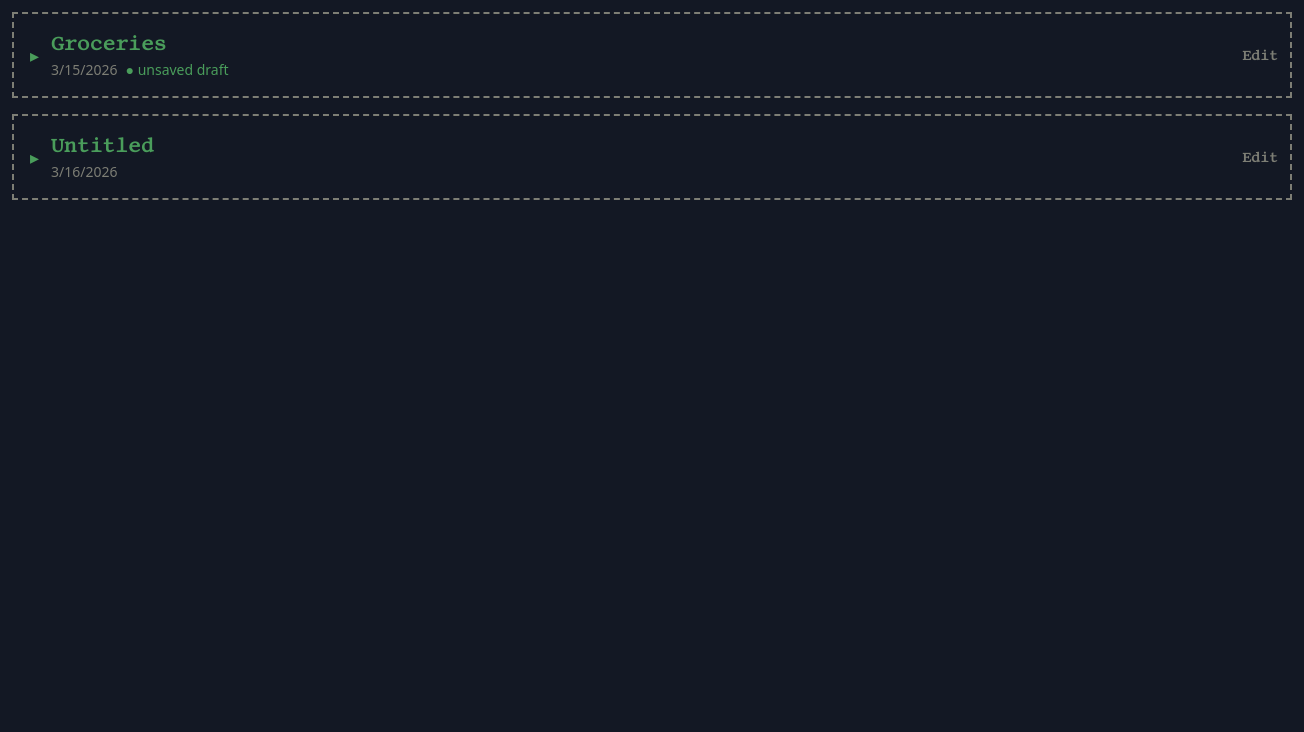
Test: NoteList › edit drafts › hides the marker while the note is actively being edited
What coordinates should you click on to do the following:
click the button with aria-label "Edit Groceries"
I would click on:
 (1260, 55)
Its box is [1230,45,1290,65].
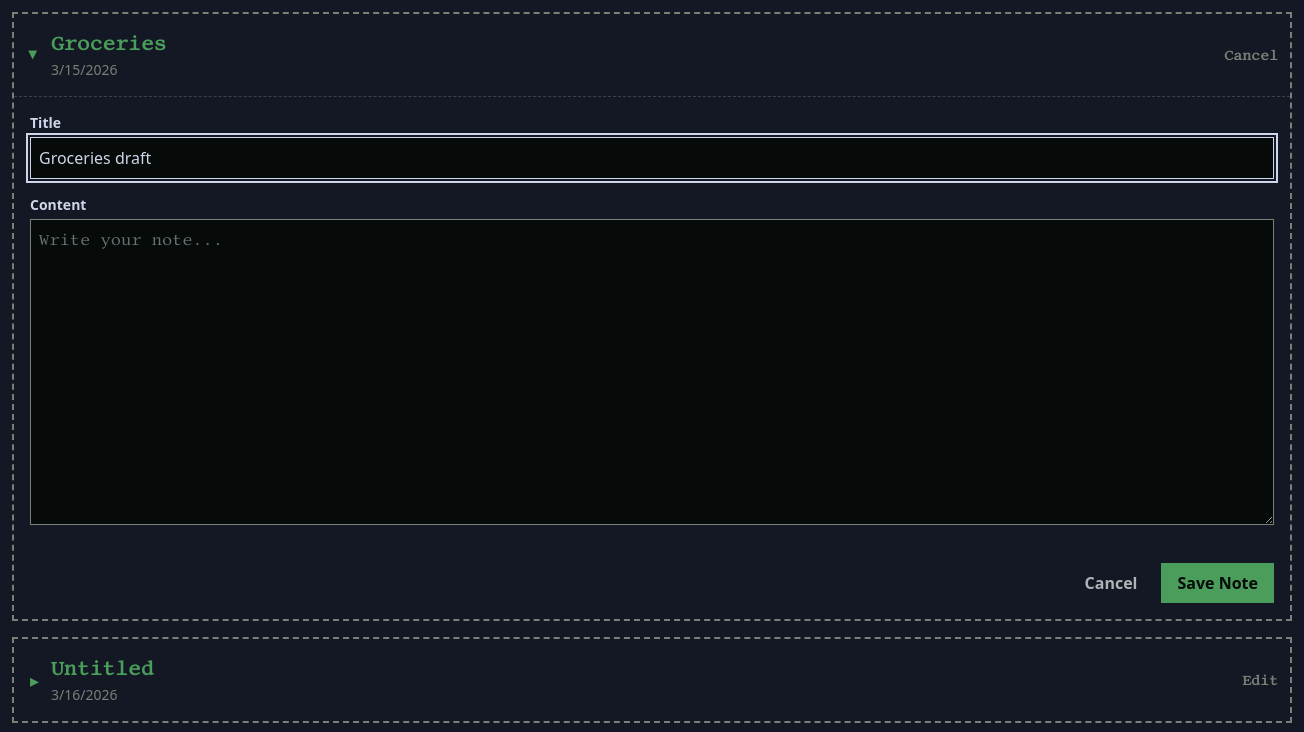
Result: the text "● unsaved draft" is gone
